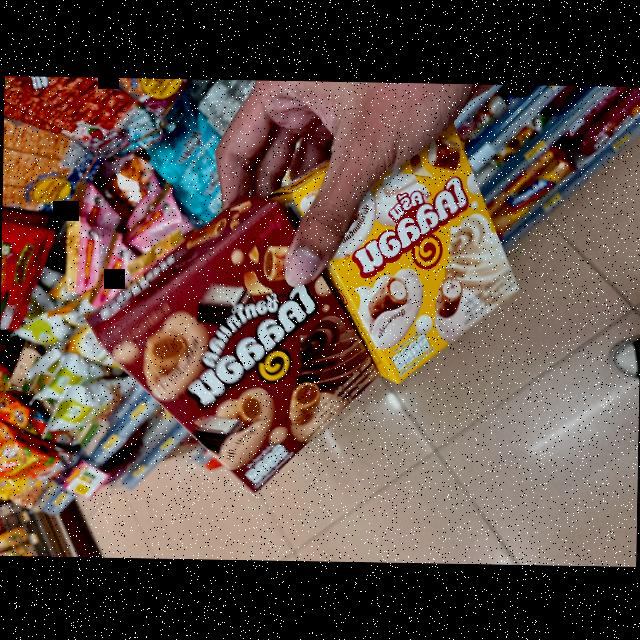cardboard_box: (72, 191, 380, 500), (259, 100, 529, 413)
